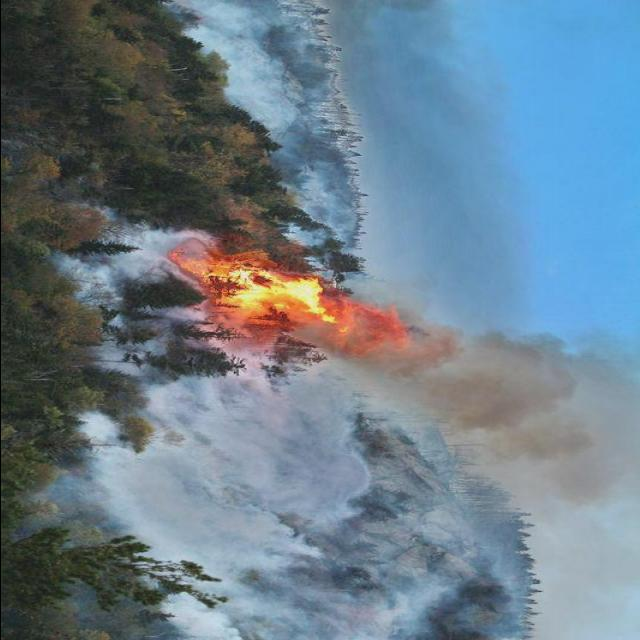Fire: (226, 264, 340, 314)
